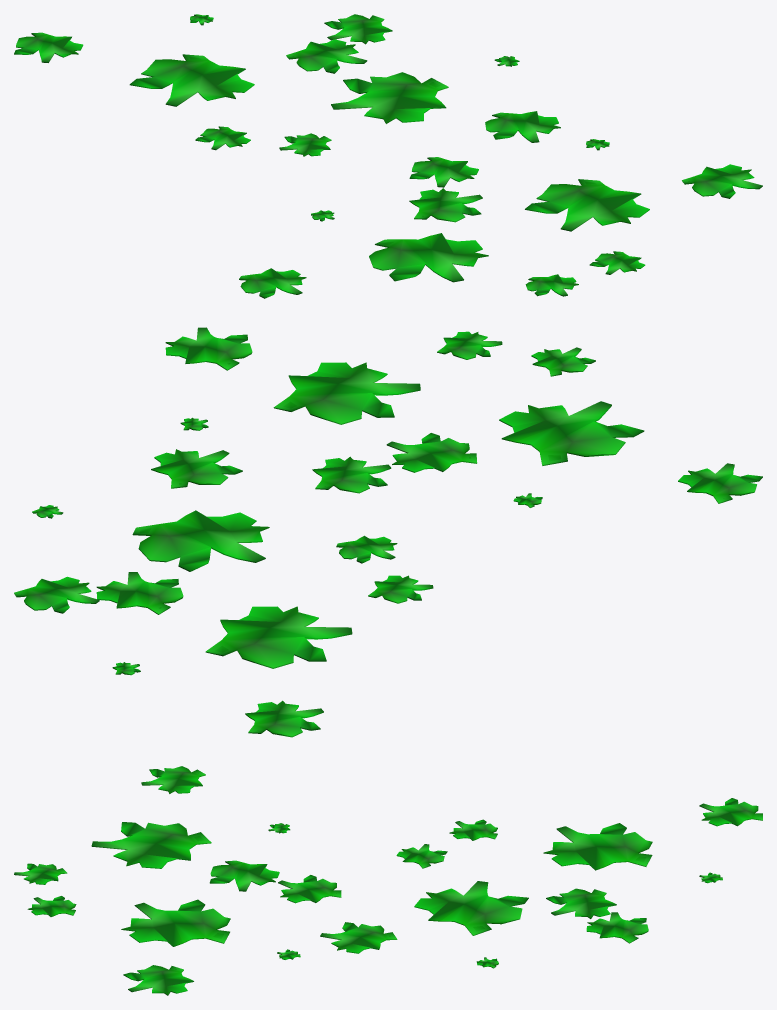
File: weed1.fbx
3 renders of one model, top to bottom at view 1: azimuth 30°, elevation 25°; view 2: azimuth 150°, elevation 25°; view 3: azimuth 270°, elevation 25°, orthographic. The views are drawn at different scales.
Visible parts, largest first — view 1: weed; view 2: weed; view 3: weed.
Boxes of the visible parts, x1,y1,x2,y2 form: weed: (14, 14, 762, 298); weed: (14, 327, 762, 737); weed: (14, 766, 762, 995).
Bounding box in the file's own units: 1.35 × 1.87 × 0.0212.
